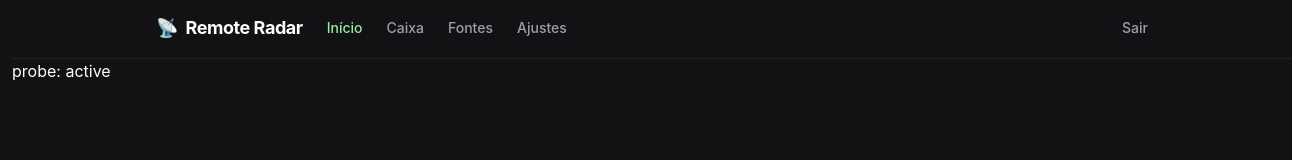
Test: NavBar › signs out when the Sair button is clicked
The width and height of the screenshot is (1292, 160).
Check: the text "probe: active" is shown, box [12,61,111,81]
Click the button "Sair" at (1135, 28), box [1122,18,1148,38]
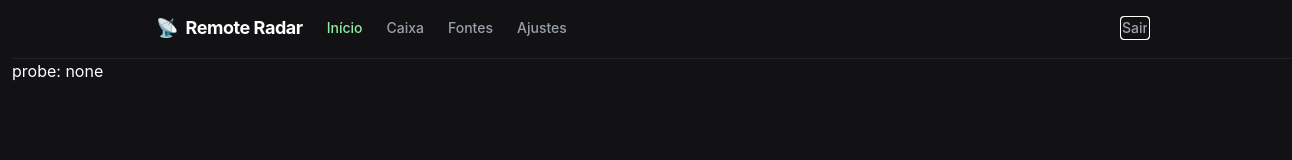
Check: the text "probe: none" is shown, box [12,61,103,81]
